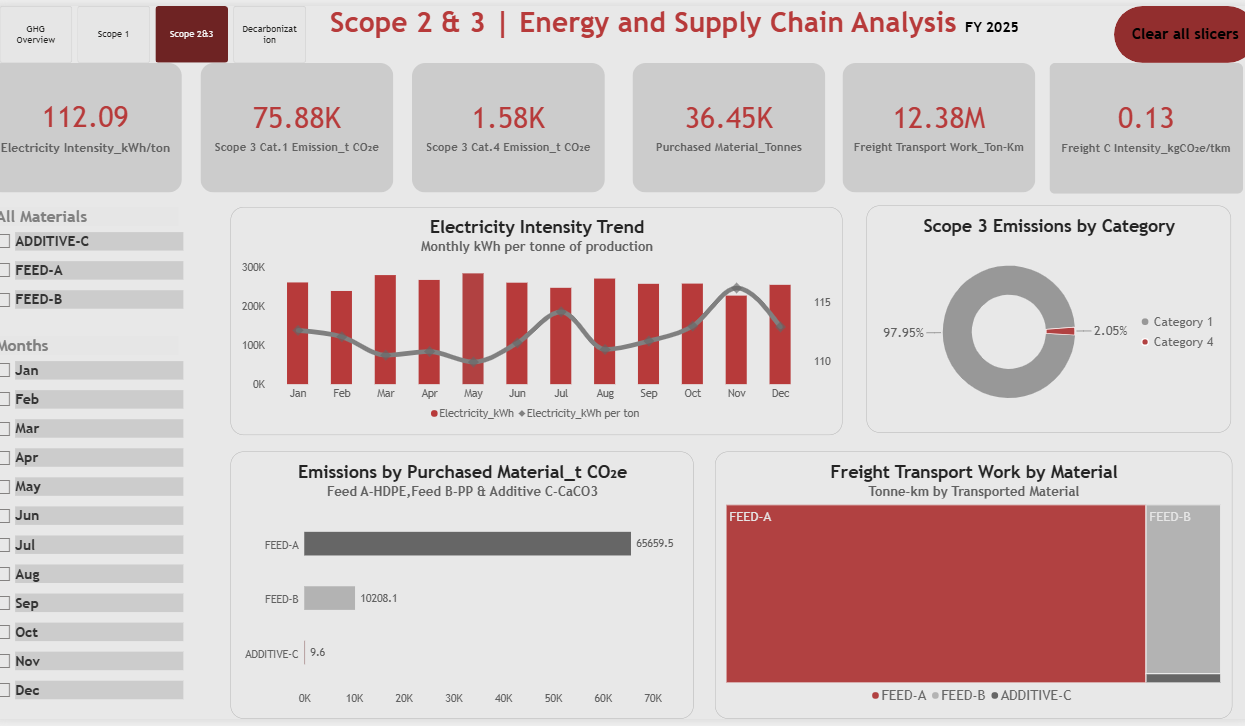

This screenshot's page, from the dashboard's own definition file:
{"tool":"powerbi","page":{"name":"Scope 2&3","canvas":[1920,1080],"ordinal":2},"visuals":[{"type":"cardVisual","fields":{"Data":["KPI (2).Electricity Intensity_KWh/ton"]},"box":[0,86.2,292,196.7],"z":0,"group":"g1"},{"type":"barChart","title":"Emissions by Purchased Material_t CO₂e","fields":{"Category":["Material_Purchases.MaterialID"],"Y":["Material_Purchases.Sum of CO2_Sco 3 cat 1 kg CO2e divided by MEASURE"]},"box":[365.3,675.3,701.6,404.7],"z":0},{"type":"cardVisual","fields":{"Data":["Freight_Shipments.Sum of CO2_Scope 3 cat 4 Kg CO2e divided by MEASURE"]},"box":[640.2,86.2,292,196.7],"z":1000,"group":"g1"},{"type":"lineClusteredColumnComboChart","title":"Electricity Intensity Trend","fields":{"Category":["Date Table.Month"],"Y":["Sum(Electricity_Daily.Electricity_kWh)"],"Y2":["Electricity_Daily.Sum of Electricity_kWh divided by one spec production ton"]},"box":[365.3,304.8,926.7,345.2],"z":1000},{"type":"donutChart","title":"Scope 3 Emissions by Category","fields":{"Y":["Sum(Material_Purchases.CO2_Sco 3 cat 1 kg CO2e)","Sum(Freight_Shipments.CO2_Scope 3 cat 4 Kg CO2e)"]},"box":[1329.7,302.2,551.8,344.2],"z":2000},{"type":"group","id":"g1","title":"Group 1","box":[0,85.5,1899.1,198.7],"z":3000},{"type":"cardVisual","fields":{"Data":["Sum(Material_Purchases.Quantity_ton)"]},"box":[974.3,86.2,292,196.7],"z":3000,"group":"g1"},{"type":"cardVisual","fields":{"Data":["KPI (2).Transport Work ton_km"]},"box":[1291.6,86.2,292,196.7],"z":4000,"group":"g1"},{"type":"treemap","title":"Freight Transport Work by Material","fields":{"Group":["Freight_Shipments.MaterialID"],"Values":["KPI (2).Transport Work ton_km"]},"box":[1098.4,675.3,783.1,404.7],"z":4000},{"type":"textbox","box":[417.8,0,1227.2,65.7],"z":5000},{"type":"cardVisual","fields":{"Data":["Freight_Shipments.Sum of CO2_Scope 3 cat 4 Kg CO2e divided by Transport Work ton_km"]},"box":[1605.9,85.5,293.2,198.7],"z":5000,"group":"g1"},{"type":"actionButton","box":[1703.5,0,215.8,86.3],"z":6000},{"type":"cardVisual","fields":{"Data":["Material_Purchases.Sum of CO2_Sco 3 cat 1 kg CO2e divided by MEASURE"]},"box":[320.1,86.2,292,196.7],"z":6001,"group":"g1"},{"type":"pageNavigator","box":[15.9,0,467.9,86.3],"z":7000},{"type":"slicer","fields":{"Values":["Material_Purchases.MaterialID"]},"box":[2.6,304.8,291.7,173.4],"z":8000},{"type":"slicer","fields":{"Values":["Date Table.Month"]},"box":[2.6,499.3,291.7,559.7],"z":9000}]}

Visuals, with their boxes on the page's 1920x1080 design canvas (x1, y1, x2, y2). These are canvas units, not pixel positions in the 1245x726 screenshot, which may show the page scaled, cropped or inside an application window:
cardVisual - KPI (2).Electricity Intensity_KWh/ton: (0, 86, 292, 283)
"Emissions by Purchased Material_t CO₂e" barChart: (365, 675, 1067, 1080)
cardVisual - Freight_Shipments.Sum of CO2_Scope 3 cat 4 Kg CO2e divided by MEASURE: (640, 86, 932, 283)
"Electricity Intensity Trend" lineClusteredColumnComboChart: (365, 305, 1292, 650)
"Scope 3 Emissions by Category" donutChart: (1330, 302, 1882, 646)
"Group 1" group: (0, 86, 1899, 284)
cardVisual - Sum(Material_Purchases.Quantity_ton): (974, 86, 1266, 283)
cardVisual - KPI (2).Transport Work ton_km: (1292, 86, 1584, 283)
"Freight Transport Work by Material" treemap: (1098, 675, 1882, 1080)
textbox: (418, 0, 1645, 66)
cardVisual - Freight_Shipments.Sum of CO2_Scope 3 cat 4 Kg CO2e divided by Transport Work ton_km: (1606, 86, 1899, 284)
actionButton: (1704, 0, 1919, 86)
cardVisual - Material_Purchases.Sum of CO2_Sco 3 cat 1 kg CO2e divided by MEASURE: (320, 86, 612, 283)
pageNavigator: (16, 0, 484, 86)
slicer - Material_Purchases.MaterialID: (3, 305, 294, 478)
slicer - Date Table.Month: (3, 499, 294, 1059)
